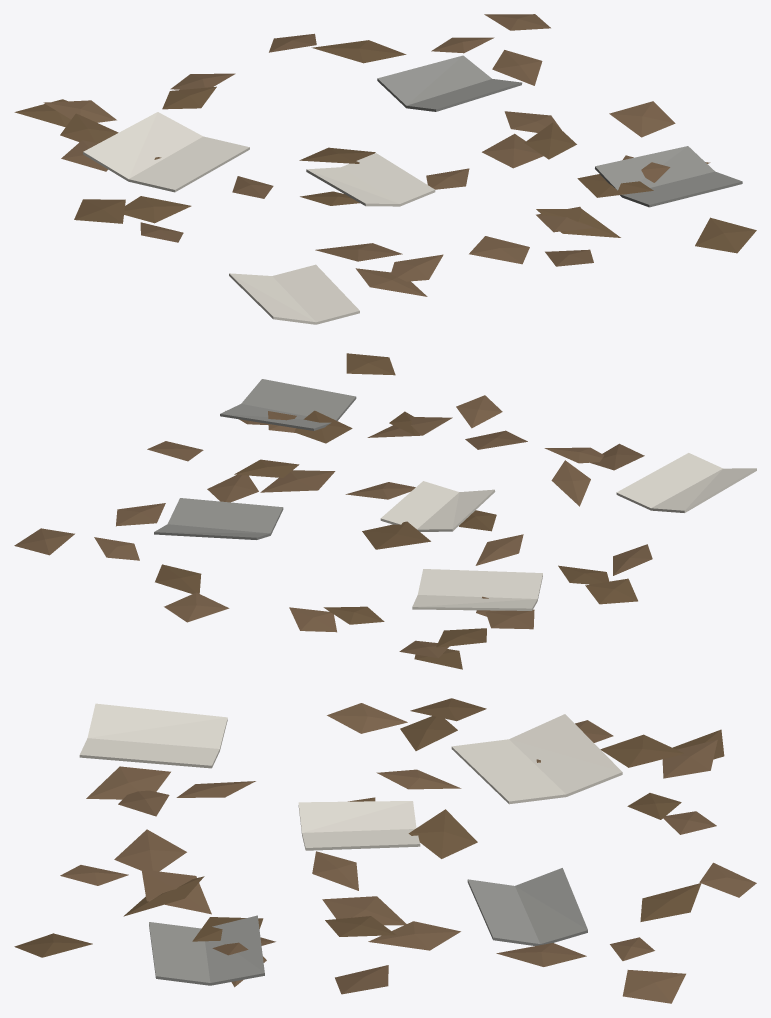
The model's file is leaves_litter.glb.
The picture shows the model from 3 angles, top to bottom: view 1: azimuth 30°, elevation 25°; view 2: azimuth 150°, elevation 25°; view 3: azimuth 270°, elevation 25°; orthographic projection. The views are drawn at different scales.
Parts seen in each view (by area): view 1: leaves_litter; view 2: leaves_litter; view 3: leaves_litter.
Part boxes in pixels (<box>): leaves_litter: <box>14,14,756,324</box>; leaves_litter: <box>14,353,756,669</box>; leaves_litter: <box>14,698,756,1003</box>.
Size of the model in its own units: 1.4 by 0.0568 by 1.46.
Materials: 2 (2 with a texture image).
